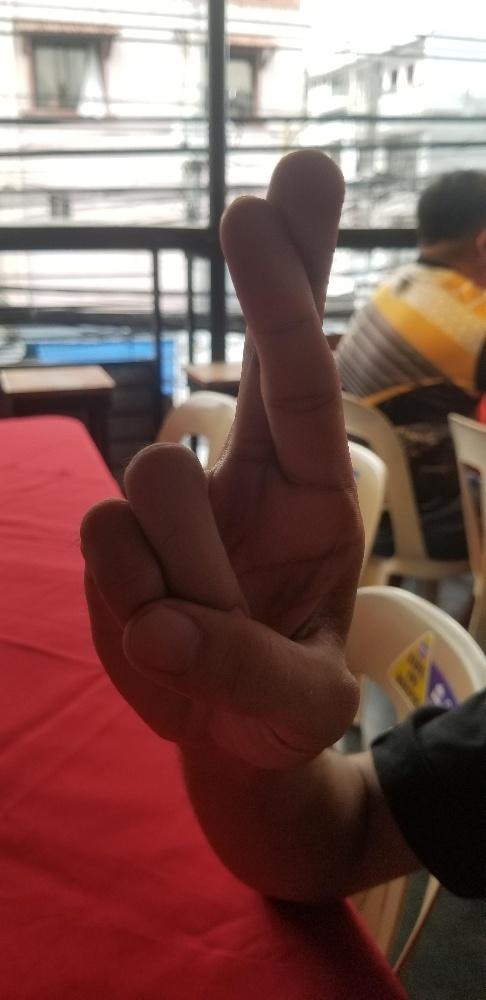r: (71, 143, 372, 771)
